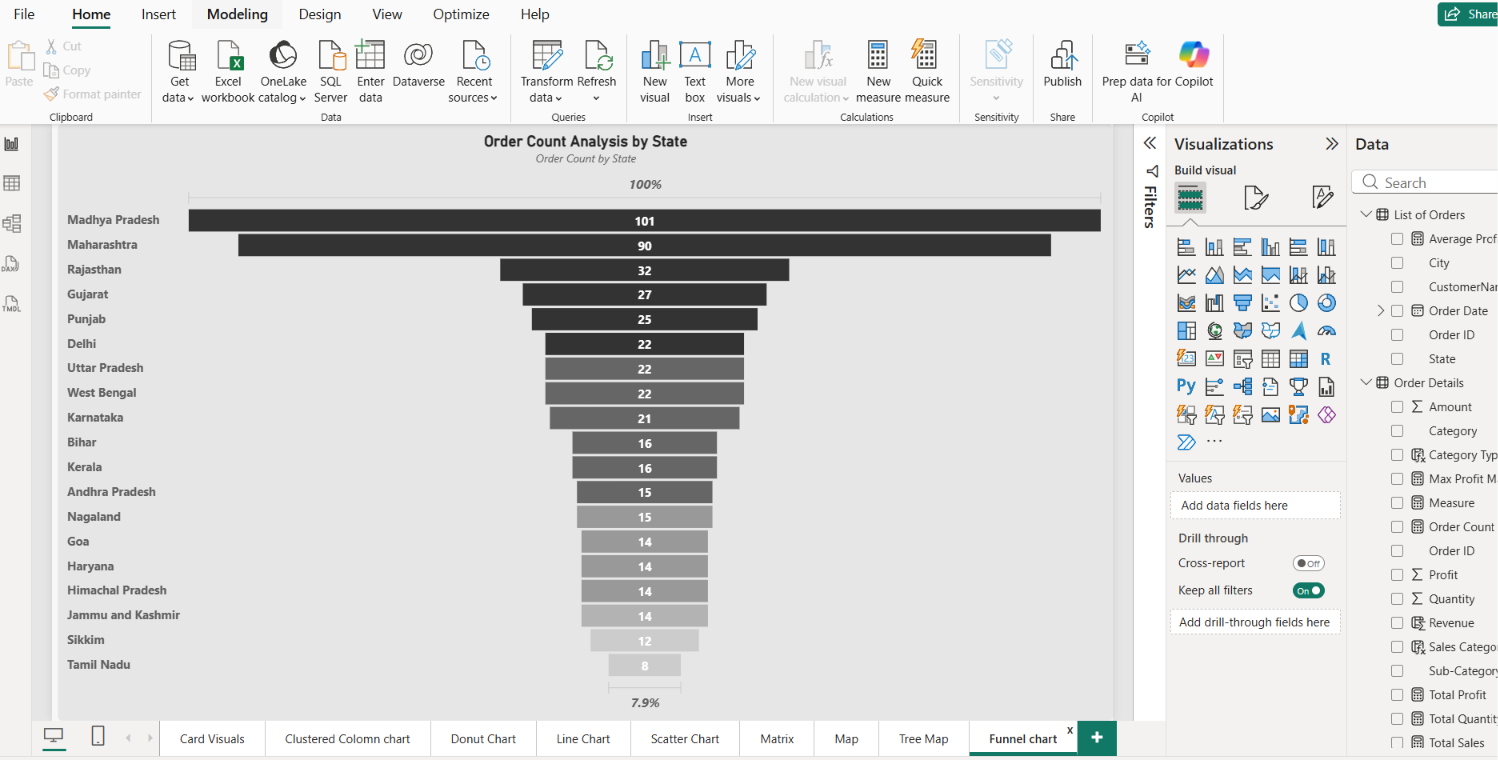

What the dashboard file says about the page in this screenshot:
{"tool":"powerbi","page":{"name":"Funnel chart","canvas":[1920,1080],"ordinal":8},"visuals":[{"type":"funnel","title":"Order Count Analysis by State","fields":{"Category":["List of Orders.State"],"Y":["Order Details.Order Count"]},"box":[10.9,0,1909.2,1080.4],"z":0}]}

Visuals, with their boxes on the page's 1920x1080 design canvas (x1, y1, x2, y2). These are canvas units, not pixel positions in the 1498x760 screenshot, which may show the page scaled, cropped or inside an application window:
"Order Count Analysis by State" funnel: pyautogui.locateOnScreen(11, 0, 1920, 1080)
